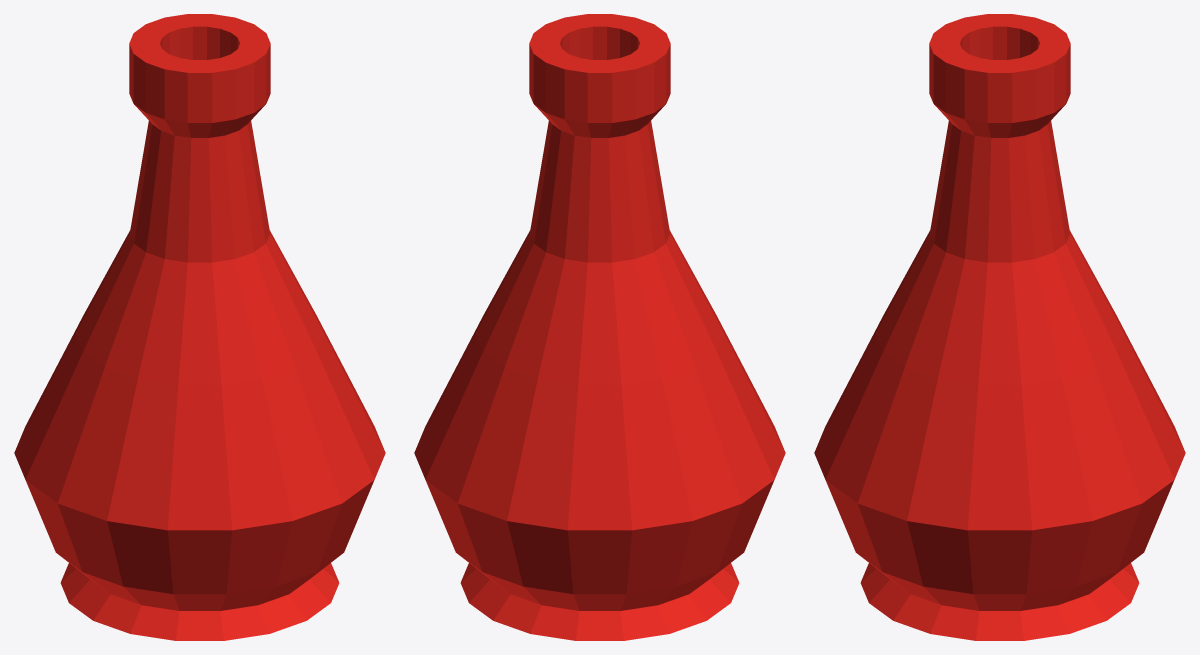
The model's file is potion.glb.
3 renders of one model, left to right at view 1: azimuth 30°, elevation 25°; view 2: azimuth 150°, elevation 25°; view 3: azimuth 270°, elevation 25°, orthographic.
Visible parts, largest first — view 1: potion; view 2: potion; view 3: potion.
Part boxes in pixels (left/top/right/bottom): potion: left=14, top=14, right=385, bottom=640; potion: left=414, top=14, right=785, bottom=640; potion: left=814, top=14, right=1185, bottom=640.
Bounding box in the file's own units: 2.62 × 4.27 × 2.66.
